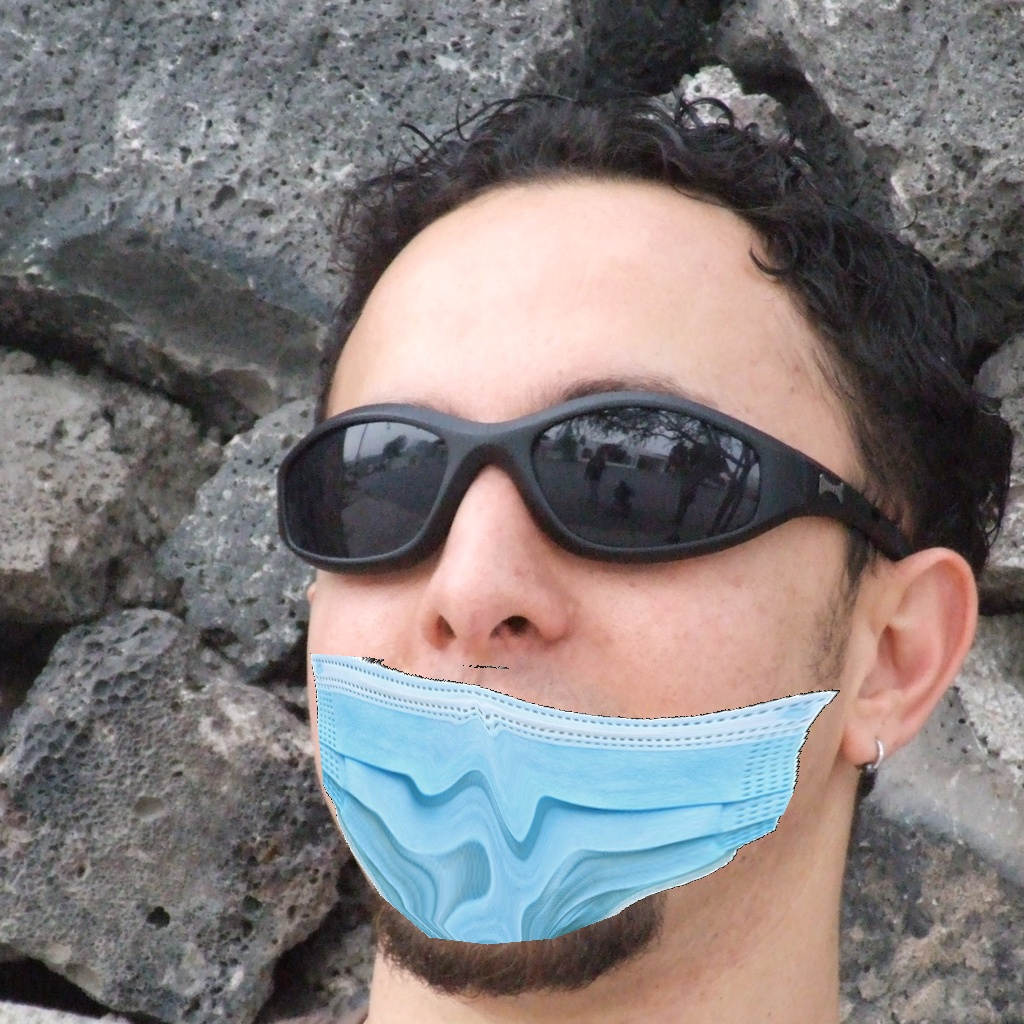Mask_Mouth_Chin: (298, 373, 841, 945)
